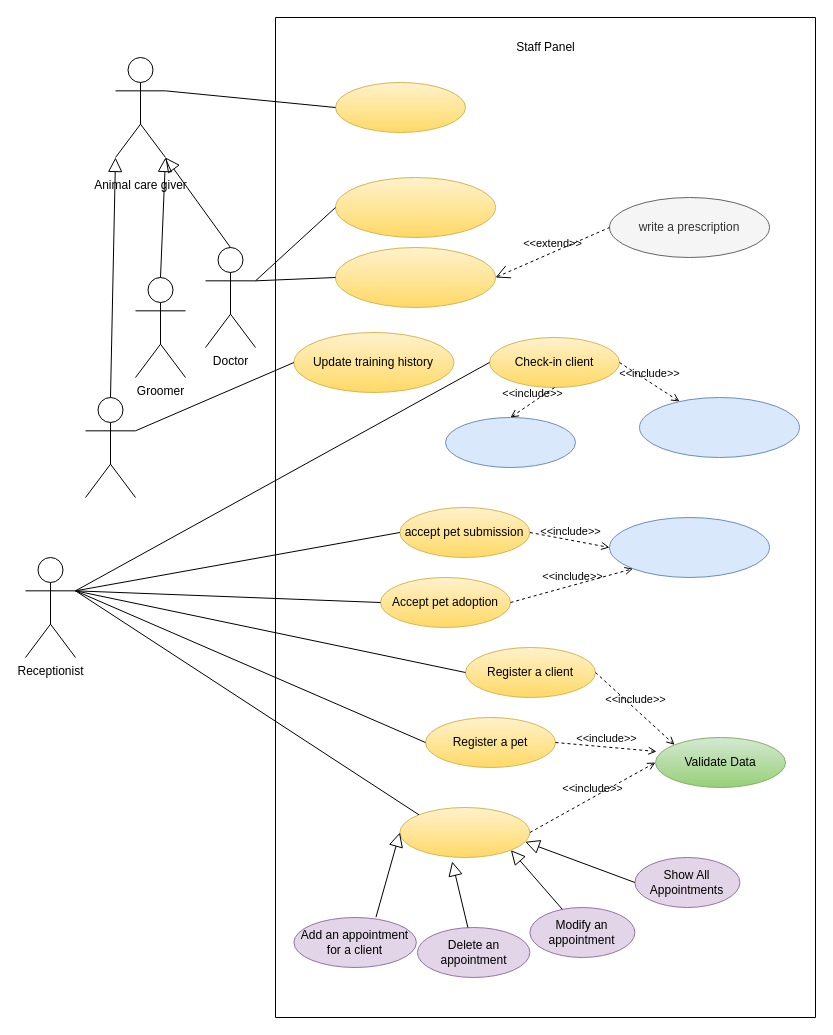
Some shapes in this 833 by 1035 pixel diagram are drawn without their labels. The shapes that lost their labels are listed below. From the top down, each one's centre as x and y in pixels, then its label:
At (400,107): "View appointment".
At (415,207): "view treatment history".
At (415,277): "Update treatment history".
At (110,447): "Trainer".
At (510,442): "Accept payment from client".
At (719,427): "Activate appointment".
At (689,547): "change shelter's capacity Update ownership info".
At (464,832): "Manage Appointment".
